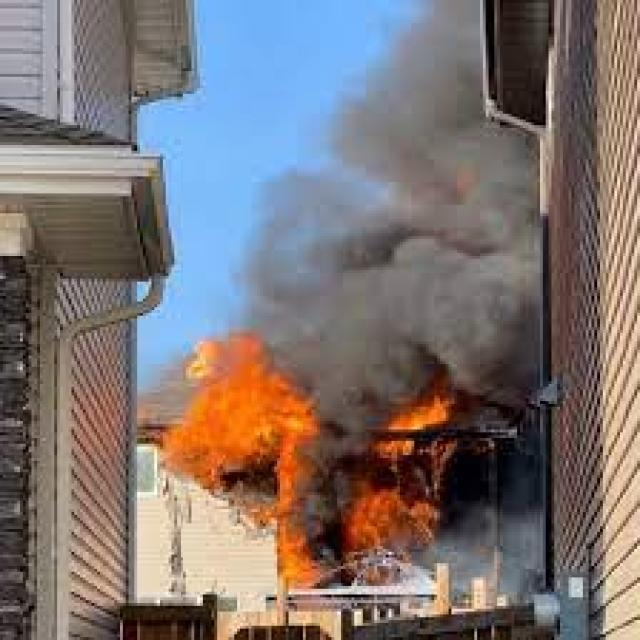Fire: (347, 412, 480, 560), (172, 355, 308, 495), (268, 495, 326, 593)
Smoke: (260, 32, 480, 352), (292, 175, 538, 437)
